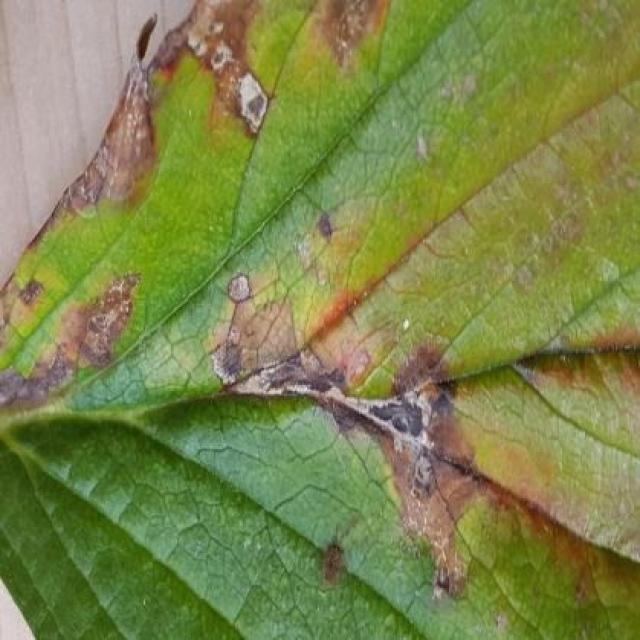Angular Leafspot: (0, 0, 638, 638)
